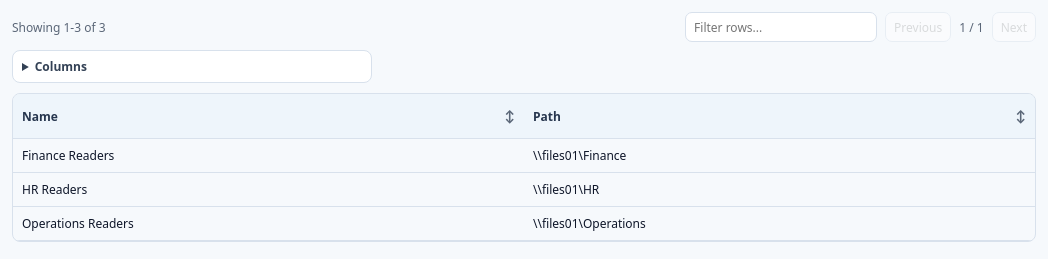
Test: VirtualTable › uses compact sort indicators and shows the unfiltered total when filtered
Expected: the text "↕" is shown 2 times, 505,108 -> 515,124; 1016,108 -> 1026,124
Click the button with aria-label "Sort by Name": (40,116) 22,102 -> 515,130
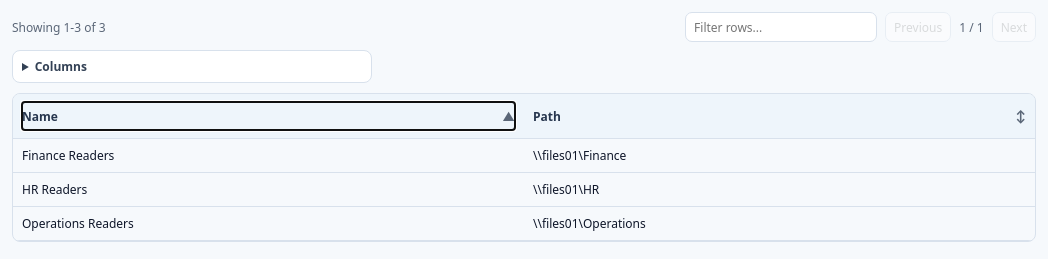
Expected: the text "▲" is shown, 501,108 -> 515,124
In the search field named "Filter Permissioned groups rows": (781,27) 685,12 -> 877,42, type "finance"
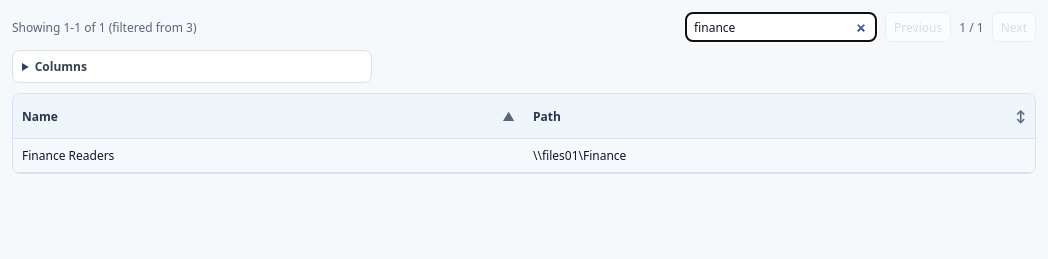
Expected: the text "Showing 1-1 of 1 (filtered from 3)" is shown, 12,18 -> 197,36
